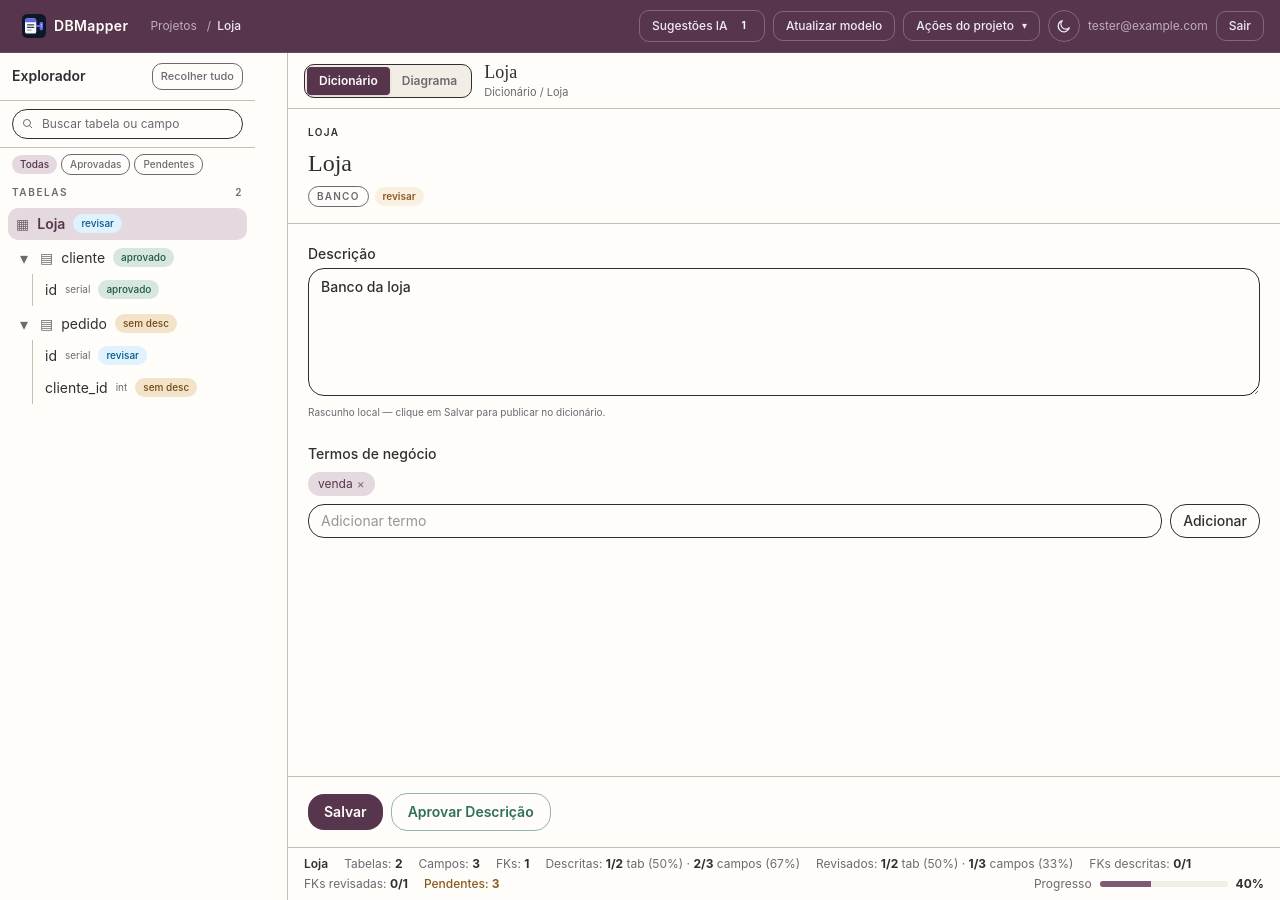
Test: WorkspacePage › exibe o badge de sugestões pendentes e abre o painel do agente
Expected: the text with test id "agent-pending-badge" reads "1", x1=742 y1=19 x2=746 y2=31
Click the button "Sugestões IA 1": (702, 26) x1=639 y1=10 x2=765 y2=42
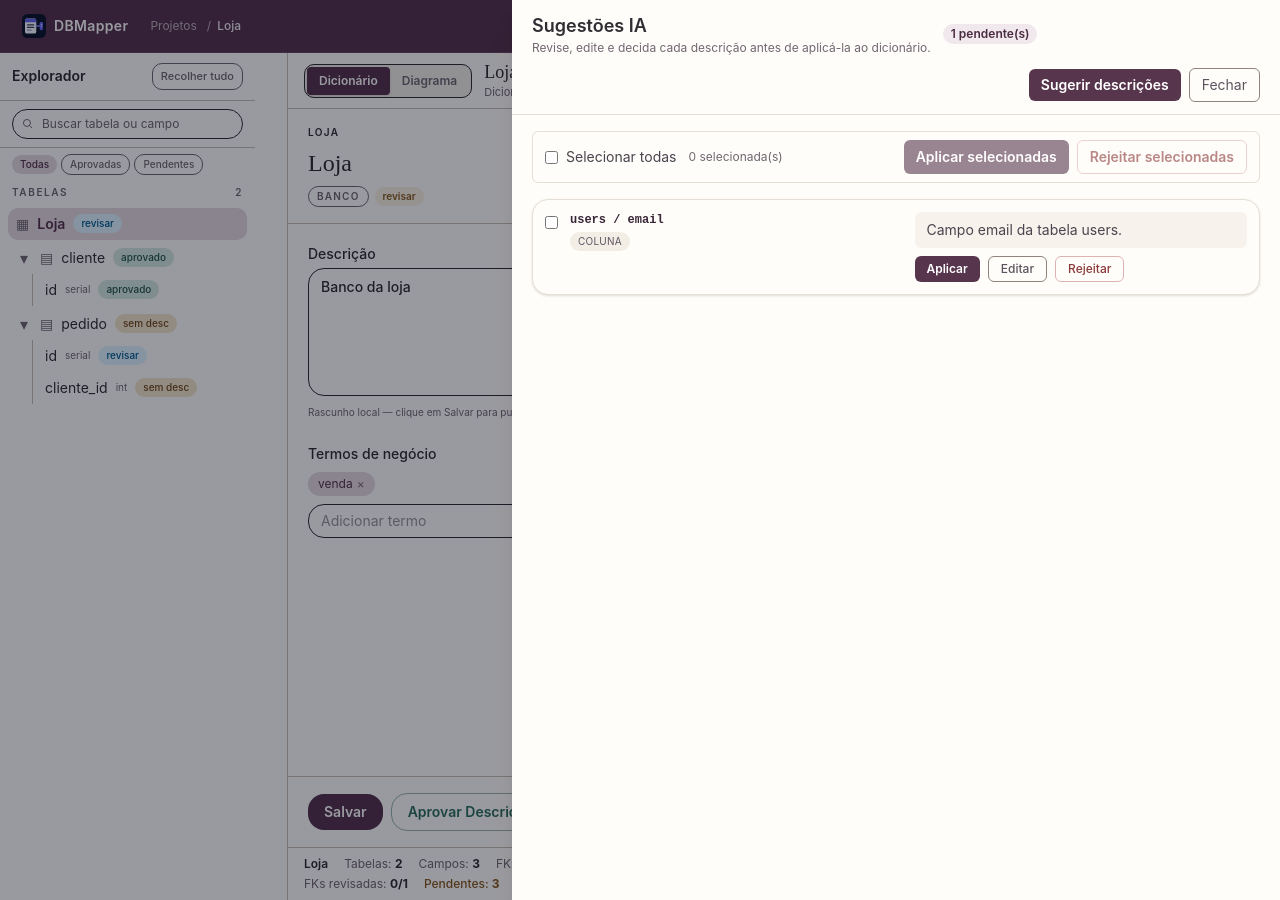
Expected: the dialog "Sugestões IA" is shown, x1=512 y1=0 x2=1279 y2=899
Expected: the list item with test id "suggestion-row-users-email" is shown, x1=532 y1=199 x2=1260 y2=295
